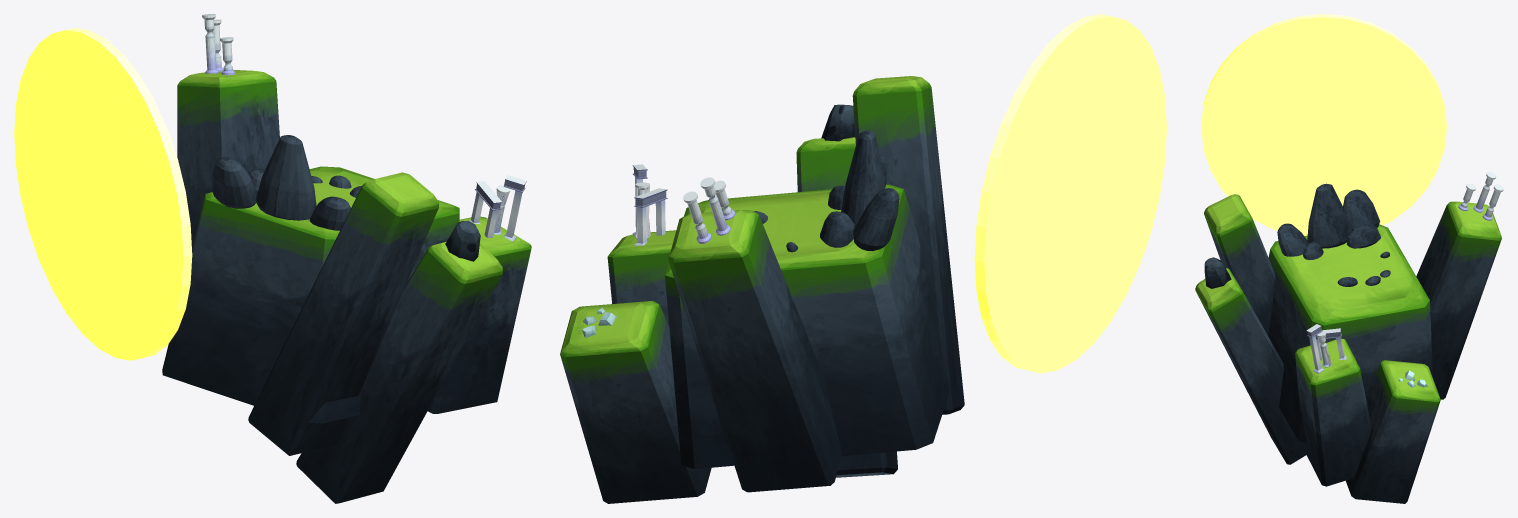
The model's file is NoteyIslandTextured.glb.
3 renders of one model, left to right at view 1: azimuth 30°, elevation 25°; view 2: azimuth 150°, elevation 25°; view 3: azimuth 270°, elevation 25°, orthographic. The views are drawn at different scales.
Parts seen in each view (by area): view 1: Core Stone, Cylinder, Rock Spire 6, Center Stones, Pillars 2, Pillars 1, Medium Stone; view 2: Core Stone, Cylinder, Center Stones, Rock Spire 6, Pillars 2, Pillars 1, Medium Stone; view 3: Core Stone, Cylinder, Rock Spire 6, Center Stones, Pillars 2, Pillars 1, Medium Stone.
Part boxes in pixels (x1,y1,x2,y2): Core Stone: (162,69,502,503); Cylinder: (14,28,192,360); Rock Spire 6: (428,216,531,413); Center Stones: (212,135,361,230); Pillars 2: (469,175,526,241); Pillars 1: (202,14,235,75); Medium Stone: (445,221,480,261); Core Stone: (560,76,964,503); Cylinder: (974,14,1166,373); Center Stones: (754,130,899,252); Rock Spire 6: (607,230,676,326); Pillars 2: (632,164,667,245); Pillars 1: (683,177,735,243); Medium Stone: (821,104,855,141); Core Stone: (1195,194,1501,503); Cylinder: (1201,14,1446,236); Rock Spire 6: (1295,338,1371,486); Center Stones: (1277,183,1390,286); Pillars 2: (1306,324,1346,373); Pillars 1: (1458,172,1503,220); Medium Stone: (1204,257,1231,288).
Bounding box in the file's own units: 17.13 × 19.01 × 14.78.
7 materials, 6 textured.
